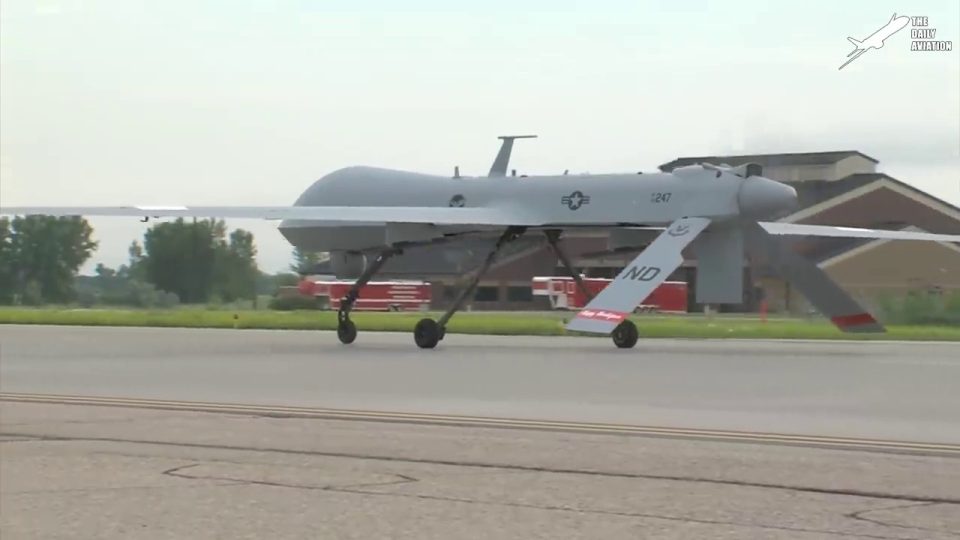military drone: (0, 134, 960, 348)
